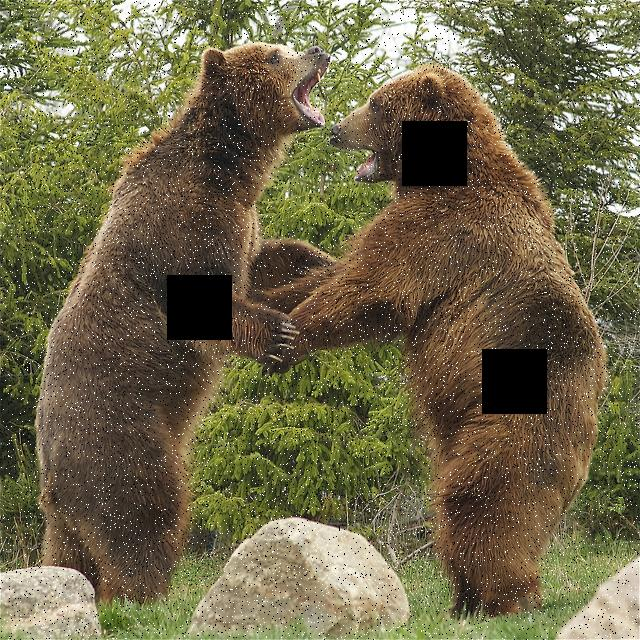Bear: (35, 21, 333, 634), (296, 46, 610, 623)
